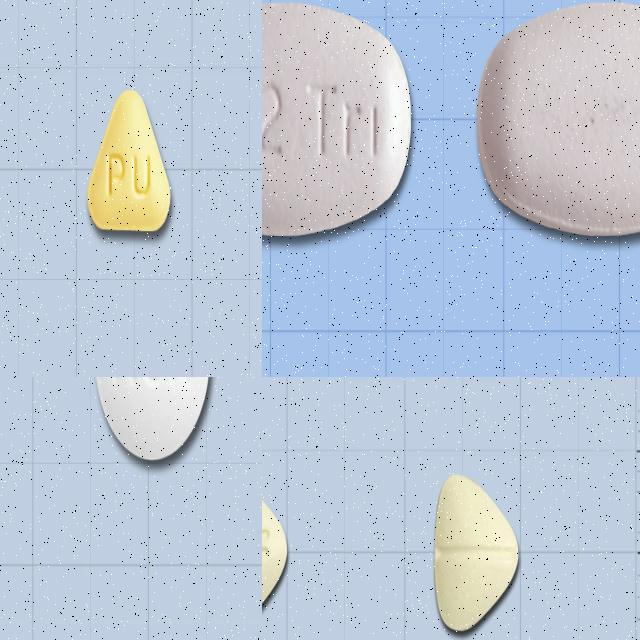Hanlim Leflunomide: (433, 471, 520, 637), (262, 474, 288, 634)
Rheumide Tab: (87, 88, 172, 230)
Rp Levofloxacin Tab: (93, 377, 212, 460)
Truvada Tab: (477, 1, 640, 237), (262, 3, 412, 234)
